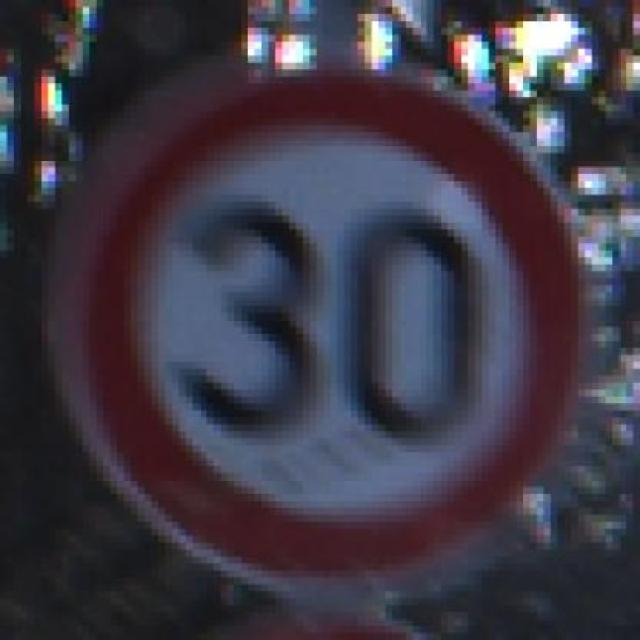Speed Limit 30 KMPh: (21, 56, 599, 584)
